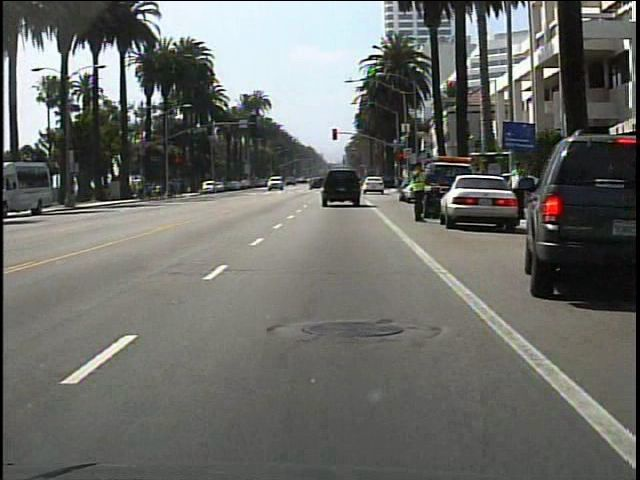person: (504, 158, 530, 217), (407, 164, 429, 227)
